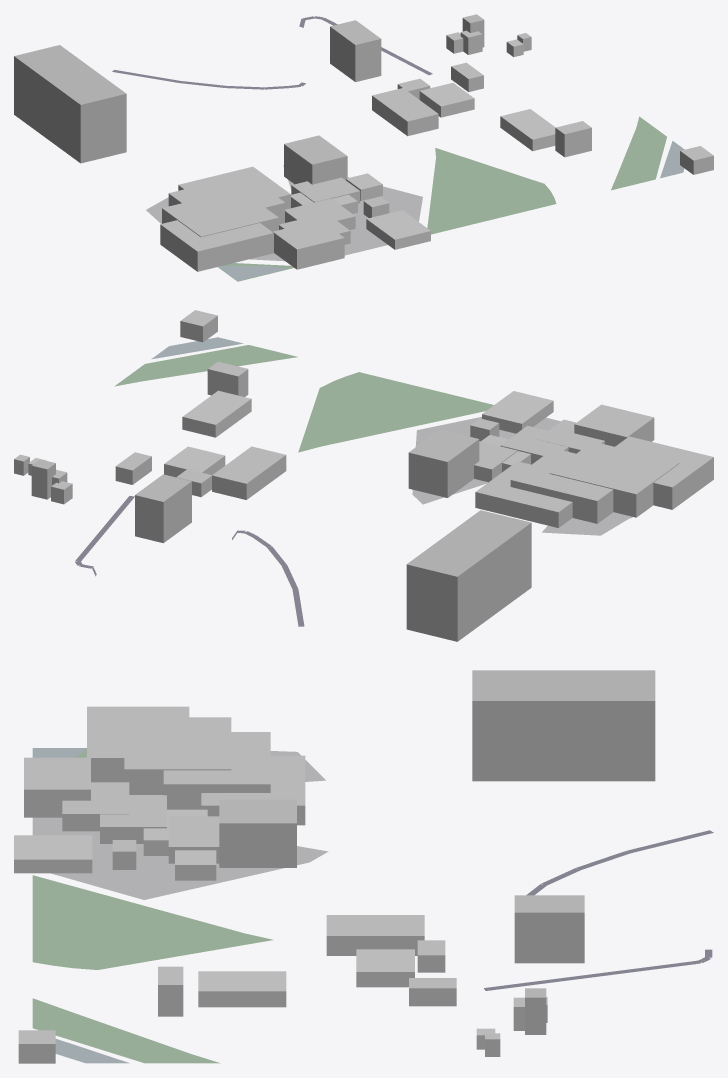
Rendered from 123_111_mid.glb.
The picture shows the model from 3 angles, top to bottom: view 1: azimuth 30°, elevation 25°; view 2: azimuth 150°, elevation 25°; view 3: azimuth 270°, elevation 25°; orthographic projection. The views are drawn at different scales.
Size of the model in its own units: 522 by 60.56 by 470.
